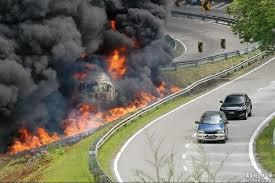fire: (60, 81, 175, 135), (108, 46, 128, 77)
